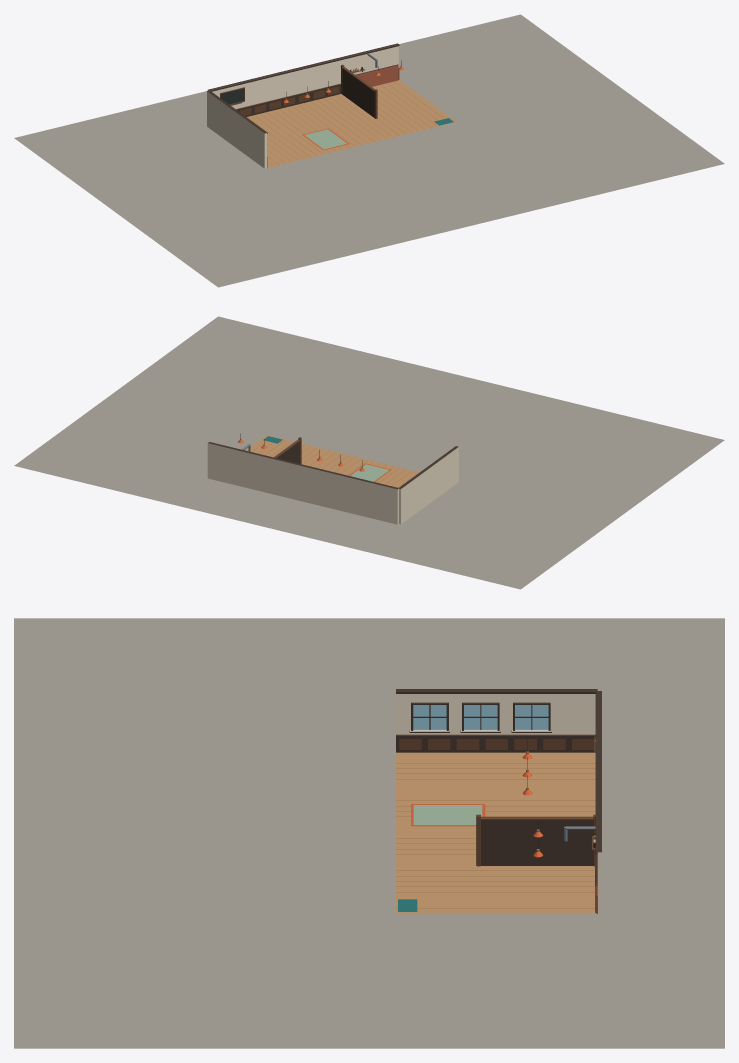
File: shell_roastery.fbx
3 renders of one model, top to bottom at view 1: azimuth 30°, elevation 25°; view 2: azimuth 150°, elevation 25°; view 3: azimuth 270°, elevation 25°, orthographic. The views are drawn at different scales.
Parts seen in each view (by area): view 1: shell_roastery; view 2: shell_roastery; view 3: shell_roastery.
Part boxes in pixels (<box>): shell_roastery: <box>14,14,724,287</box>; shell_roastery: <box>14,316,724,589</box>; shell_roastery: <box>14,618,724,1048</box>.
Bounding box in the file's own units: 48 × 3.22 × 33.5.
